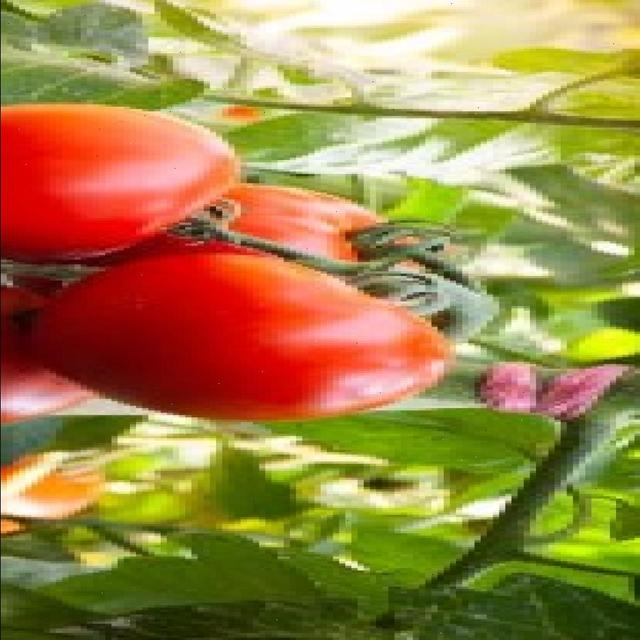Healthy Fruit: (33, 99, 264, 236)
